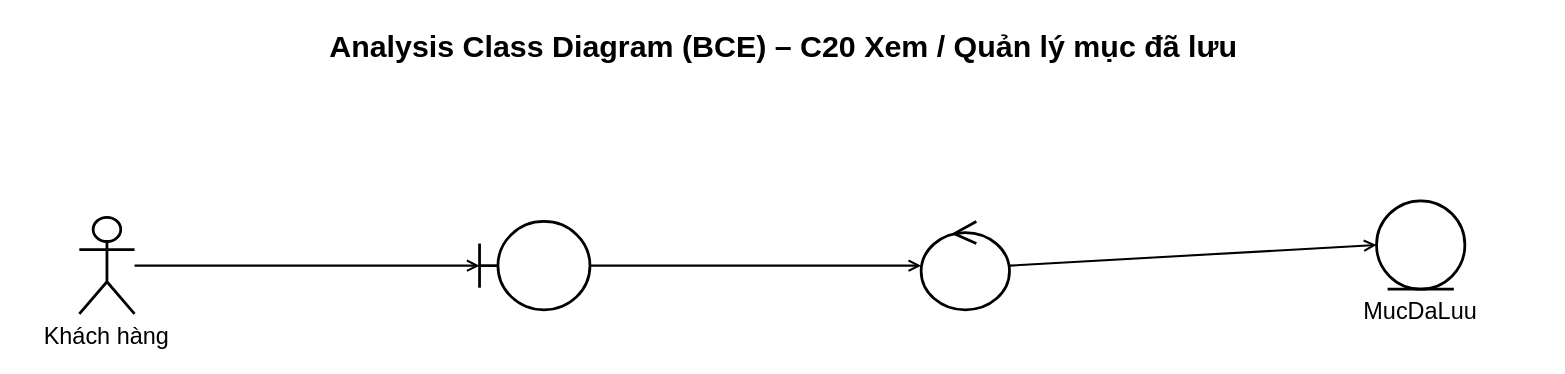
This 1565x374 diagram has some shape labels left out. Each missing label, with the centre of its shape:
MucDaLuuController: point 964,264
MucDaLuuPage: point 534,264
